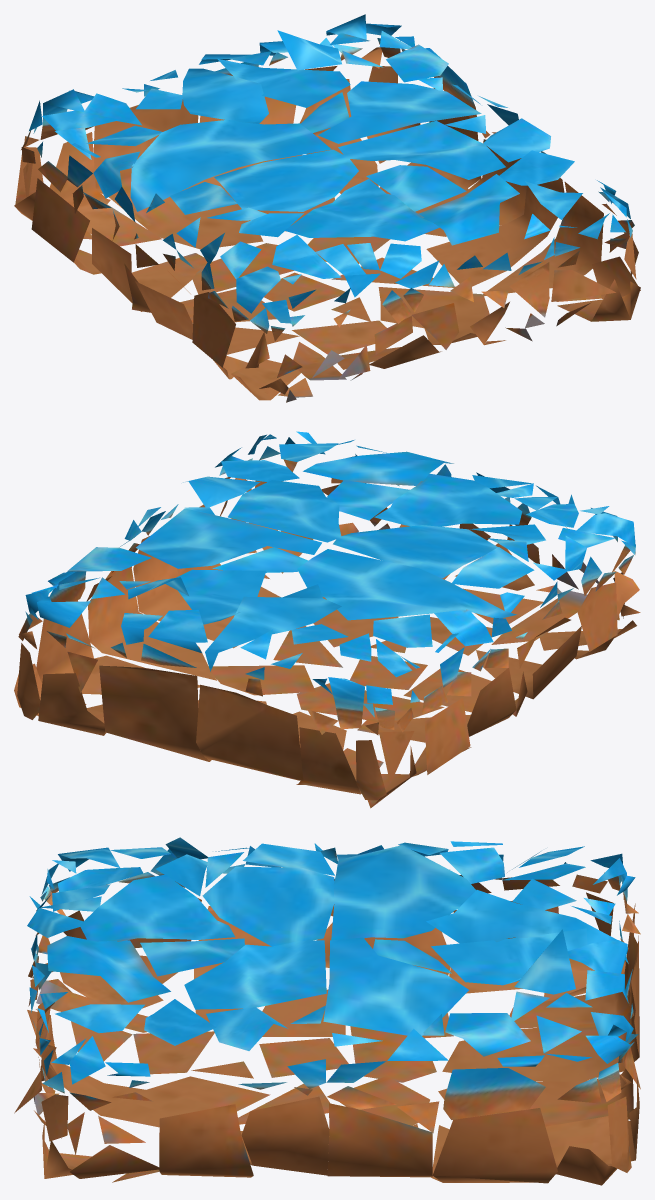
Rendered from water.glb.
The picture shows the model from 3 angles, top to bottom: view 1: azimuth 30°, elevation 25°; view 2: azimuth 150°, elevation 25°; view 3: azimuth 270°, elevation 25°; orthographic projection. The views are drawn at different scales.
Visible parts, largest first — view 1: Mesh_0; view 2: Mesh_0; view 3: Mesh_0.
Boxes of the visible parts, x1,y1,x2,y2 form: Mesh_0: (14, 14, 640, 402); Mesh_0: (14, 431, 640, 808); Mesh_0: (14, 837, 640, 1185).
Bounding box in the file's own units: 1.64 × 0.6246 × 1.93.
Materials: 1 (1 with a texture image).
